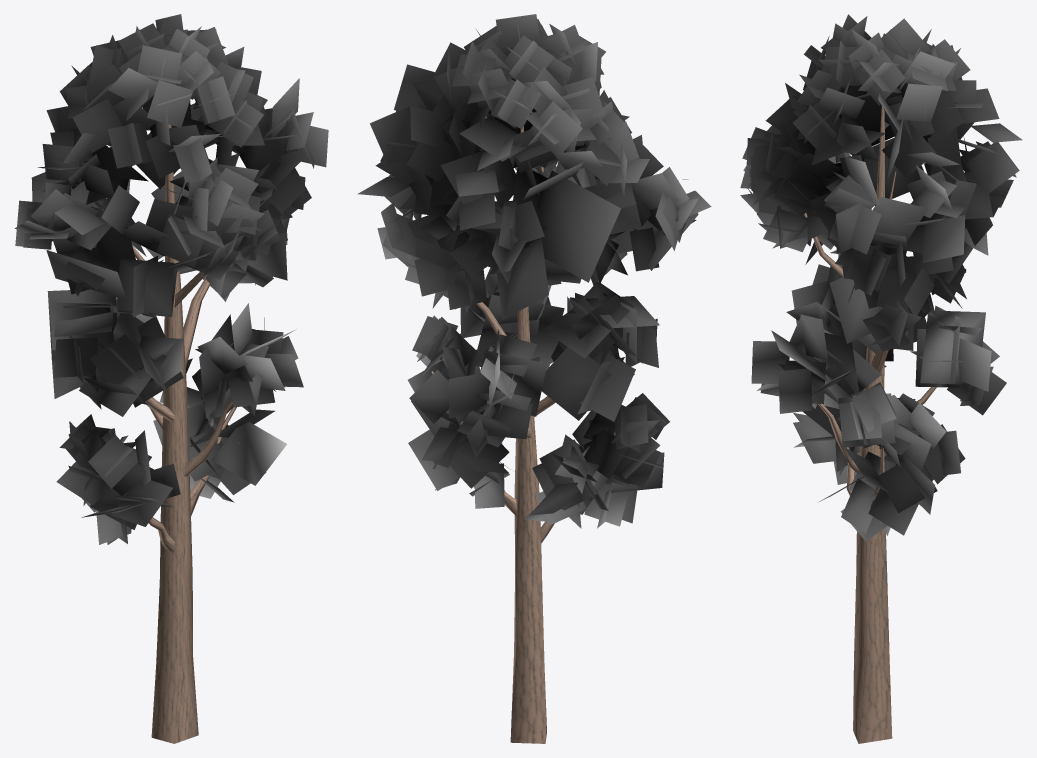
The model's file is b_plant_tree_lod1_03.fbx.
3 views of the same model, side by side, from view 1: azimuth 30°, elevation 25°; view 2: azimuth 150°, elevation 25°; view 3: azimuth 270°, elevation 25° (orthographic).
Parts seen in each view (by area): view 1: b_plant_tree_lod1_03_02, b_plant_tree_lod1_03_01; view 2: b_plant_tree_lod1_03_02, b_plant_tree_lod1_03_01; view 3: b_plant_tree_lod1_03_02, b_plant_tree_lod1_03_01.
Part boxes in pixels (box(x1,y1,x2,y2)): b_plant_tree_lod1_03_02: box(14, 14, 328, 544); b_plant_tree_lod1_03_01: box(102, 124, 236, 743); b_plant_tree_lod1_03_02: box(357, 14, 711, 528); b_plant_tree_lod1_03_01: box(431, 126, 615, 743); b_plant_tree_lod1_03_02: box(740, 14, 1022, 541); b_plant_tree_lod1_03_01: box(804, 105, 936, 743).
Size of the model in its own units: 8136 by 18137 by 6576.
